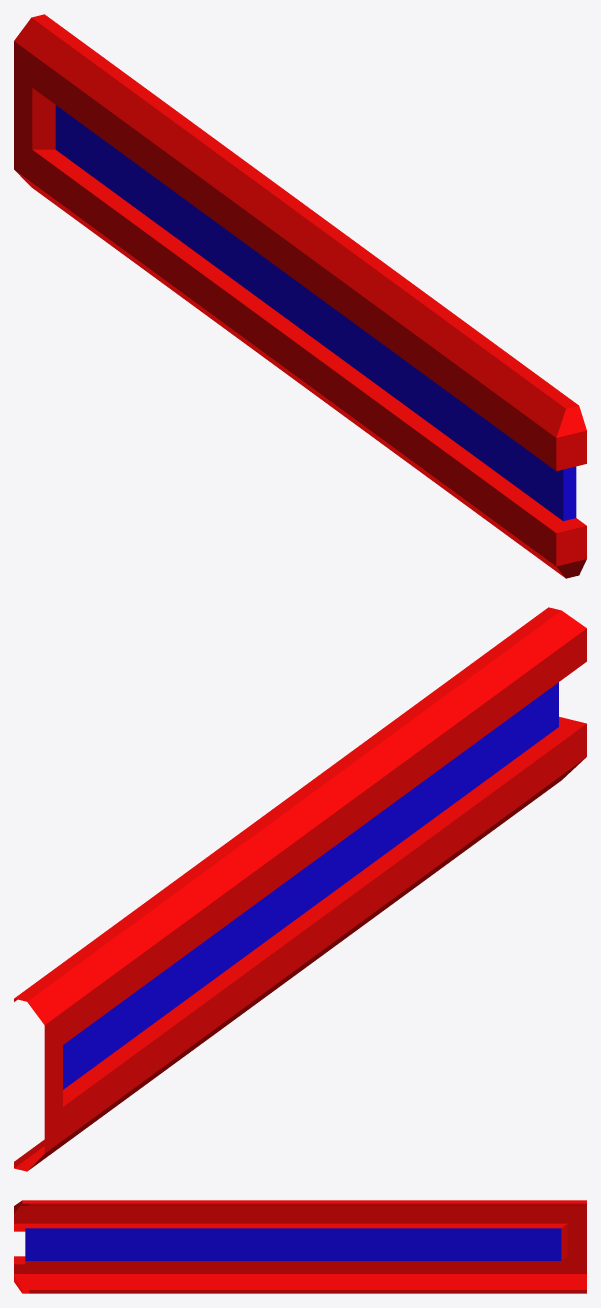
File: Floor - Left End.FBX
3 renders of one model, top to bottom at view 1: azimuth 30°, elevation 25°; view 2: azimuth 150°, elevation 25°; view 3: azimuth 270°, elevation 25°, orthographic. The views are drawn at different scales.
Visible parts, largest first — view 1: Frame_low002; view 2: Frame_low002; view 3: Frame_low002.
Part boxes in pixels (x1,y1,x2,y2): Frame_low002: [14, 14, 586, 578]; Frame_low002: [14, 607, 586, 1171]; Frame_low002: [14, 1200, 586, 1293].
Bounding box in the file's own units: 20.09 × 107 × 617.
